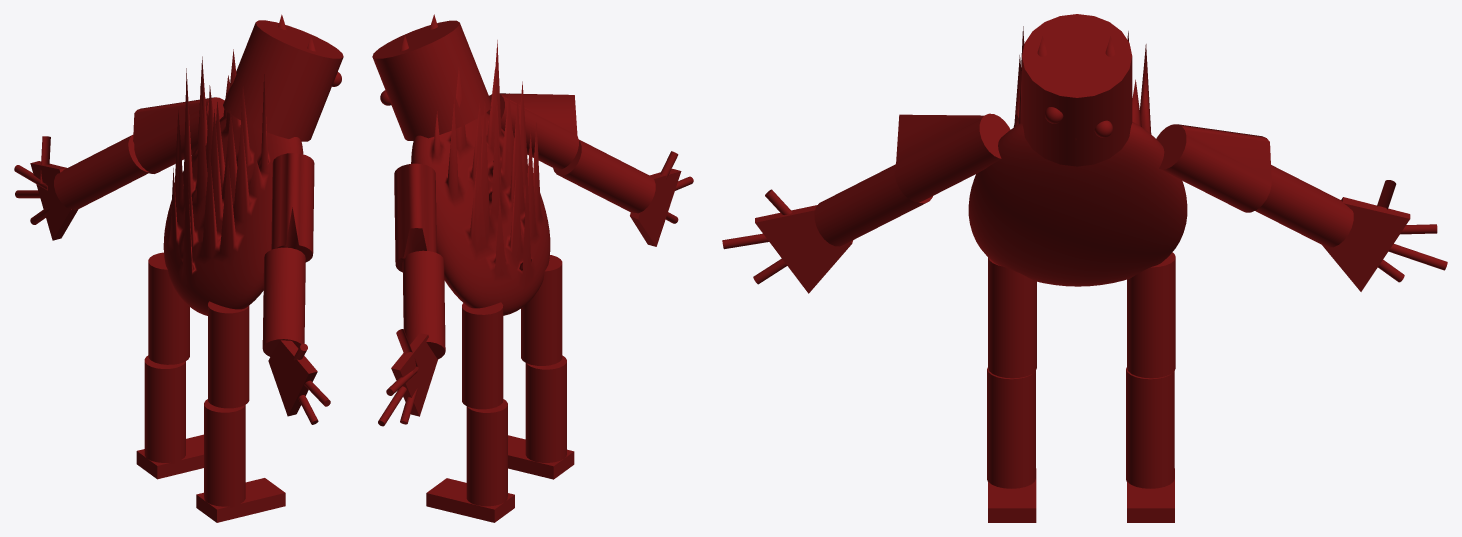
Rendered from zombie.obj.
The picture shows the model from 3 angles, left to right: view 1: azimuth 30°, elevation 25°; view 2: azimuth 150°, elevation 25°; view 3: azimuth 270°, elevation 25°; orthographic projection. The views are drawn at different scales.
Parts seen in each view (by area): view 1: pCube6 pCube1SmoothProxyGroup_pCube1SmoothProxyGroup_pCube3Smoot, pCylinder2, pasted__pCylinder1 group2, group2 pasted__pasted__pCylinder1 pasted__group1, group3 pasted__pasted__pCylinder1 pasted__group1, pasted__pCylinder1 group1, pCylinder1, pasted__pCylinder1 group4, group4 pasted__pasted__pCylinder1 pasted__group1, pasted__pCylinder1 group3, pasted__pCube2 group12, group2 pasted__pasted__pCube1 pasted__group (+2 smaller); view 2: pCube6 pCube1SmoothProxyGroup_pCube1SmoothProxyGroup_pCube3Smoot, pCylinder2, pasted__pCylinder1 group3, group3 pasted__pasted__pCylinder1 pasted__group1, pCylinder1, group2 pasted__pasted__pCylinder1 pasted__group1, group4 pasted__pasted__pCylinder1 pasted__group1, pasted__pCylinder1 group4, pasted__pCylinder1 group1, pasted__pCylinder1 group2, pCube2, pasted__pCube1 group (+2 smaller); view 3: pCube6 pCube1SmoothProxyGroup_pCube1SmoothProxyGroup_pCube3Smoot, pCylinder2, pCylinder1, pasted__pCylinder1 group4, group2 pasted__pasted__pCylinder1 pasted__group1, group3 pasted__pasted__pCylinder1 pasted__group1, pasted__pCylinder1 group3, pasted__pCylinder1 group2, pasted__pCylinder1 group1, group4 pasted__pasted__pCylinder1 pasted__group1, pasted__pCube2 group12, pCube2 (+2 smaller).
Part boxes in pixels (x1,y1,x2,y2): pCube6 pCube1SmoothProxyGroup_pCube1SmoothProxyGroup_pCube3Smoot: (163, 49, 303, 315); pCylinder2: (223, 20, 343, 141); pasted__pCylinder1 group2: (208, 301, 249, 408); group2 pasted__pasted__pCylinder1 pasted__group1: (204, 399, 245, 507); group3 pasted__pasted__pCylinder1 pasted__group1: (144, 355, 185, 463); pasted__pCylinder1 group1: (262, 247, 305, 356); pCylinder1: (271, 153, 314, 262); pasted__pCylinder1 group4: (133, 97, 224, 173); group4 pasted__pasted__pCylinder1 pasted__group1: (54, 135, 149, 210); pasted__pCylinder1 group3: (148, 252, 189, 364); pasted__pCube2 group12: (268, 340, 317, 416); group2 pasted__pasted__pCube1 pasted__group: (196, 478, 285, 522); pCube6 pCube1SmoothProxyGroup_pCube1SmoothProxyGroup_pCube3Smoot: (411, 40, 550, 315); pCylinder2: (372, 20, 491, 140); pasted__pCylinder1 group3: (462, 302, 503, 409); group3 pasted__pasted__pCylinder1 pasted__group1: (466, 399, 507, 506); pCylinder1: (486, 93, 578, 169); group2 pasted__pasted__pCylinder1 pasted__group1: (525, 355, 566, 462); group4 pasted__pasted__pCylinder1 pasted__group1: (402, 250, 445, 359); pasted__pCylinder1 group4: (394, 163, 436, 271); pasted__pCylinder1 group1: (553, 139, 655, 213); pasted__pCylinder1 group2: (521, 255, 562, 365); pCube2: (391, 333, 437, 416); pasted__pCube1 group: (426, 478, 514, 522); pCube6 pCube1SmoothProxyGroup_pCube1SmoothProxyGroup_pCube3Smoot: (968, 26, 1187, 286); pCylinder2: (1022, 14, 1132, 166); pCylinder1: (894, 113, 1010, 202); pasted__pCylinder1 group4: (1156, 124, 1271, 212); group2 pasted__pasted__pCylinder1 pasted__group1: (987, 367, 1035, 488); group3 pasted__pasted__pCylinder1 pasted__group1: (1126, 367, 1174, 488); pasted__pCylinder1 group3: (1127, 252, 1175, 378); pasted__pCylinder1 group2: (988, 257, 1036, 378); pasted__pCylinder1 group1: (814, 164, 932, 246); group4 pasted__pasted__pCylinder1 pasted__group1: (1255, 165, 1353, 247); pasted__pCube2 group12: (755, 205, 852, 293); pCube2: (1322, 197, 1410, 291).
Bounding box in the file's own units: 5.1 × 12.36 × 15.7.
